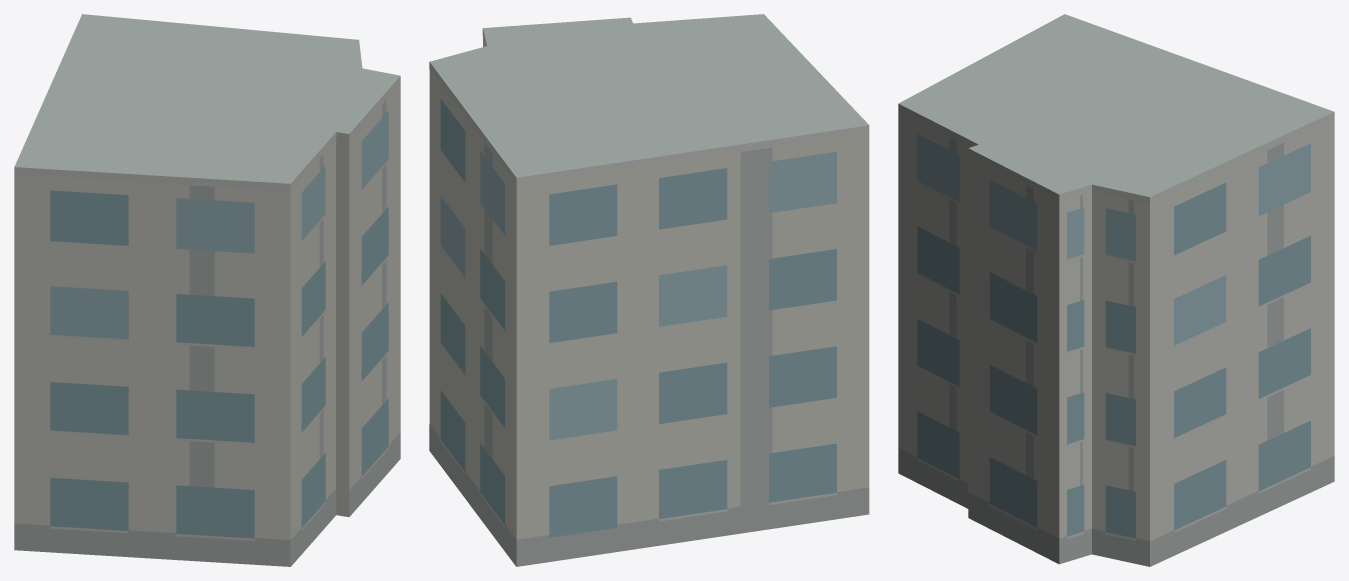
The model's file is residential-546f3529-f8eb-4713-b19b-f4caffad000e.glb.
3 renders of one model, left to right at view 1: azimuth 30°, elevation 25°; view 2: azimuth 150°, elevation 25°; view 3: azimuth 270°, elevation 25°, orthographic. The views are drawn at different scales.
Visible parts, largest first — view 1: residential-546f3529-f8eb-4713-b19b-f4caffad000e.tmp; view 2: residential-546f3529-f8eb-4713-b19b-f4caffad000e.tmp; view 3: residential-546f3529-f8eb-4713-b19b-f4caffad000e.tmp.
Part boxes in pixels (left/top/right/bottom): residential-546f3529-f8eb-4713-b19b-f4caffad000e.tmp: left=14, top=14, right=400, bottom=566; residential-546f3529-f8eb-4713-b19b-f4caffad000e.tmp: left=429, top=14, right=869, bottom=566; residential-546f3529-f8eb-4713-b19b-f4caffad000e.tmp: left=898, top=14, right=1334, bottom=566.
Size of the model in its own units: 12.97 by 12.2 by 13.06.
